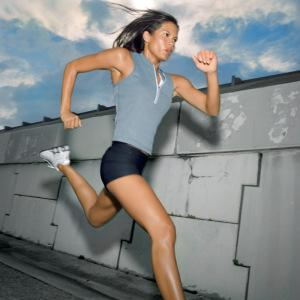person: (41, 7, 221, 300)
